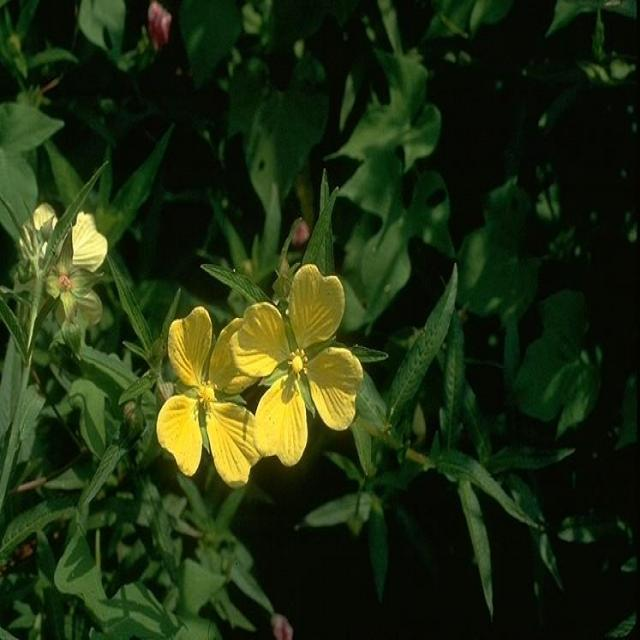organic waste: (248, 268, 365, 480), (156, 290, 264, 490)
